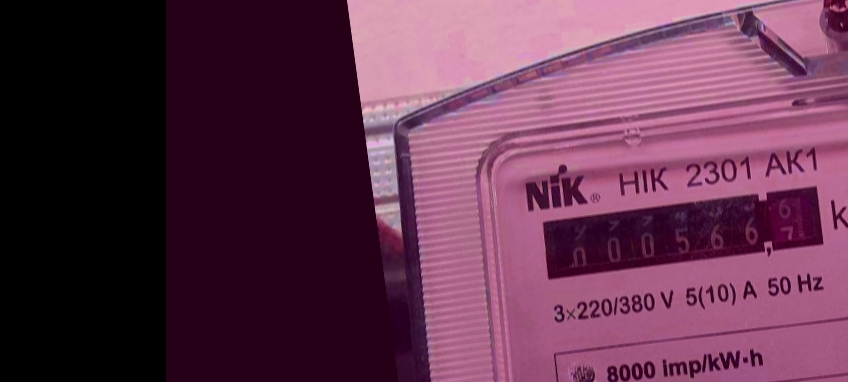0: (638, 228, 660, 259), (605, 232, 625, 263), (570, 241, 592, 267)
5: (673, 224, 695, 255)
6: (741, 212, 764, 245), (706, 220, 729, 250), (777, 195, 796, 222)
7: (780, 223, 798, 243)
9: (571, 219, 591, 241)
screen: (532, 176, 833, 290)
